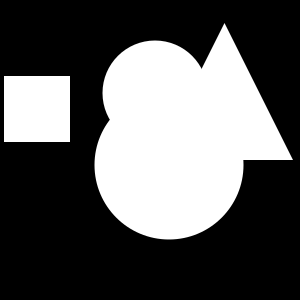circle: (4, 76, 70, 142)
rectangle: (95, 91, 244, 240), (103, 40, 208, 146)
triangle: (156, 23, 293, 160), (170, 47, 177, 54)
